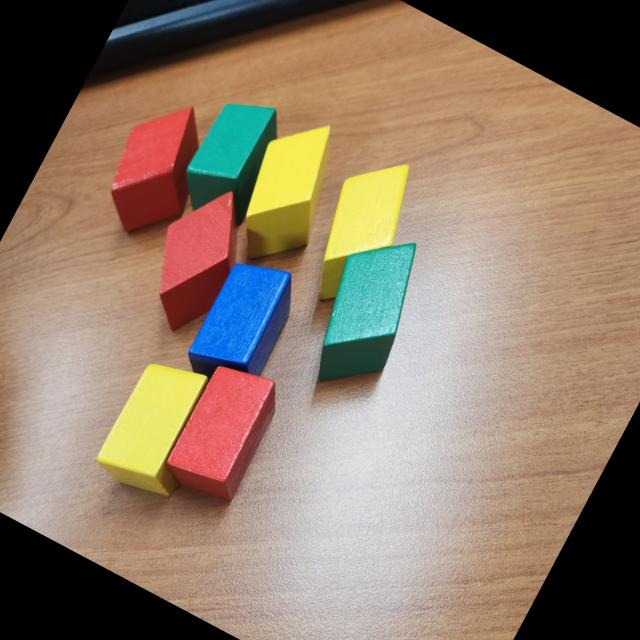blue: (178, 247, 308, 401)
green: (291, 216, 444, 404), (169, 84, 296, 234)
red: (125, 172, 266, 344), (86, 87, 228, 253), (158, 354, 289, 510)
yellow: (216, 102, 361, 278), (288, 142, 427, 318), (89, 345, 230, 508)
